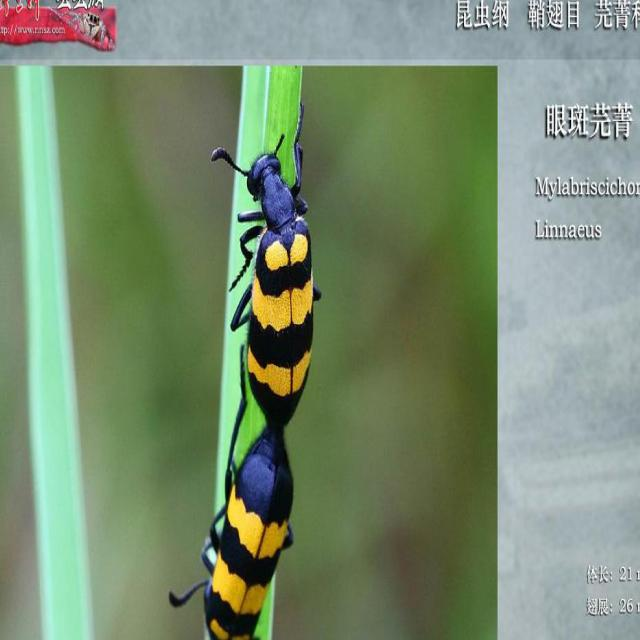BlisterBeetle-Adult-: (207, 104, 327, 428)
